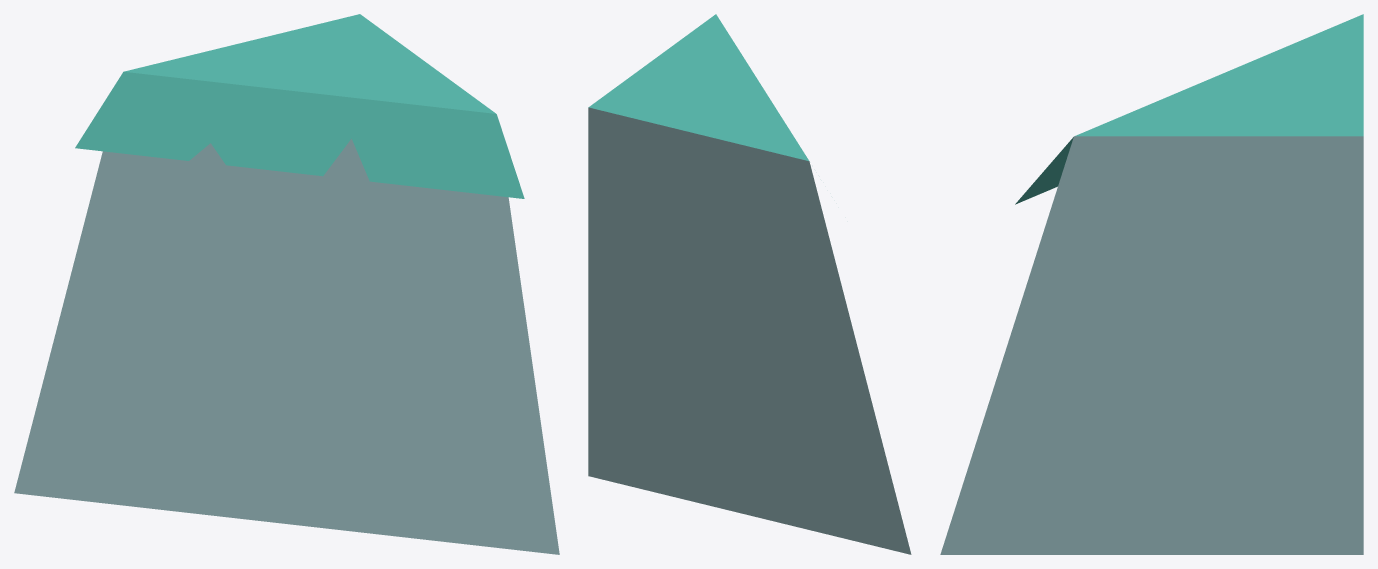
File: cliffGrey_halfCorner.fbx
3 views of the same model, side by side, from view 1: azimuth 30°, elevation 25°; view 2: azimuth 150°, elevation 25°; view 3: azimuth 270°, elevation 25° (orthographic). The views are drawn at different scales.
Parts seen in each view (by area): view 1: cliffGrey_halfCorner; view 2: cliffGrey_halfCorner; view 3: cliffGrey_halfCorner.
Boxes of the visible parts, <box> form: cliffGrey_halfCorner: <box>14,14,559,554</box>; cliffGrey_halfCorner: <box>588,14,911,554</box>; cliffGrey_halfCorner: <box>940,14,1363,554</box>.
Bounding box in the file's own units: 4.58 × 5 × 4.58.
